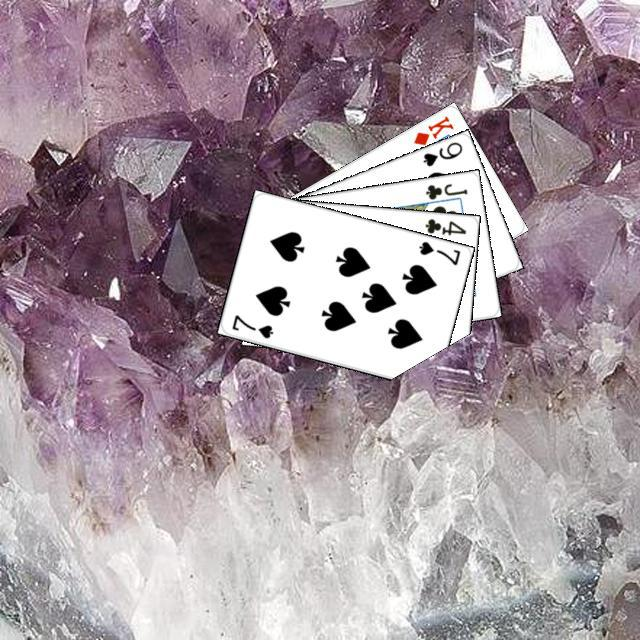4c: (420, 213, 468, 237)
7s: (414, 236, 462, 267), (227, 310, 275, 340)
9s: (418, 137, 464, 168)
Jc: (421, 178, 469, 201)
Kd: (409, 111, 455, 147)
